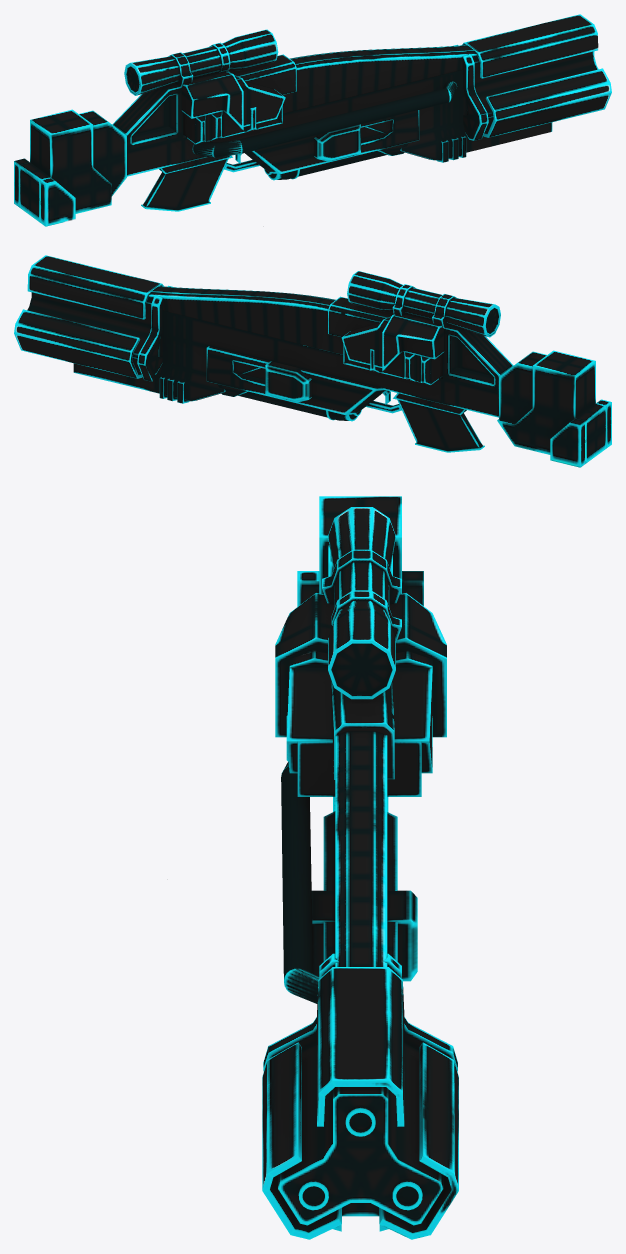
File: sci-fi_neon_gun.glb
The picture shows the model from 3 angles, top to bottom: view 1: azimuth 30°, elevation 25°; view 2: azimuth 150°, elevation 25°; view 3: azimuth 270°, elevation 25°; orthographic projection. The views are drawn at different scales.
Parts seen in each view (by area): view 1: polySurface16; view 2: polySurface16; view 3: polySurface16.
Boxes of the visible parts, x1,y1,x2,y2 form: polySurface16: [14, 14, 611, 226]; polySurface16: [14, 255, 611, 467]; polySurface16: [262, 496, 458, 1239].
Size of the model in its own units: 2344 by 659 by 529.
1 material, 1 textured.
